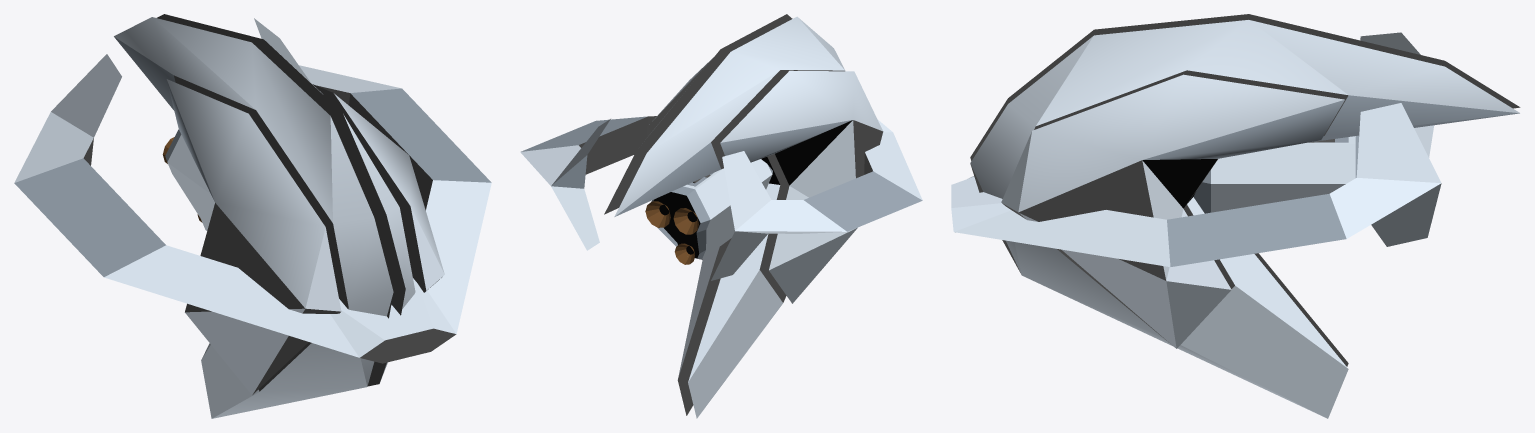
The model's file is sentouki.fbx.
The picture shows the model from 3 angles, left to right: view 1: azimuth 30°, elevation 25°; view 2: azimuth 150°, elevation 25°; view 3: azimuth 270°, elevation 25°; orthographic projection. The views are drawn at different scales.
Bounding box in the file's own units: 14.59 × 14.59 × 18.87.
